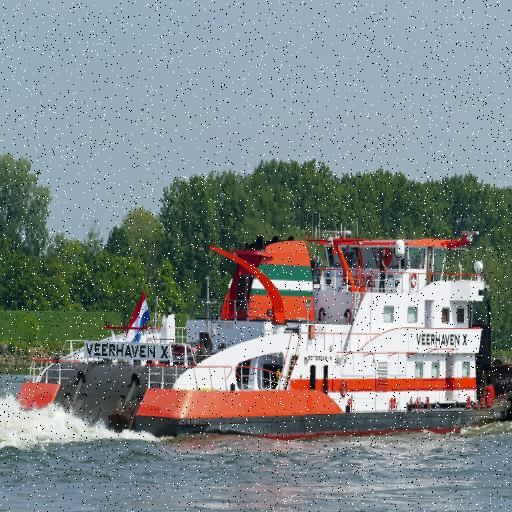tugboat: (12, 209, 512, 450)
